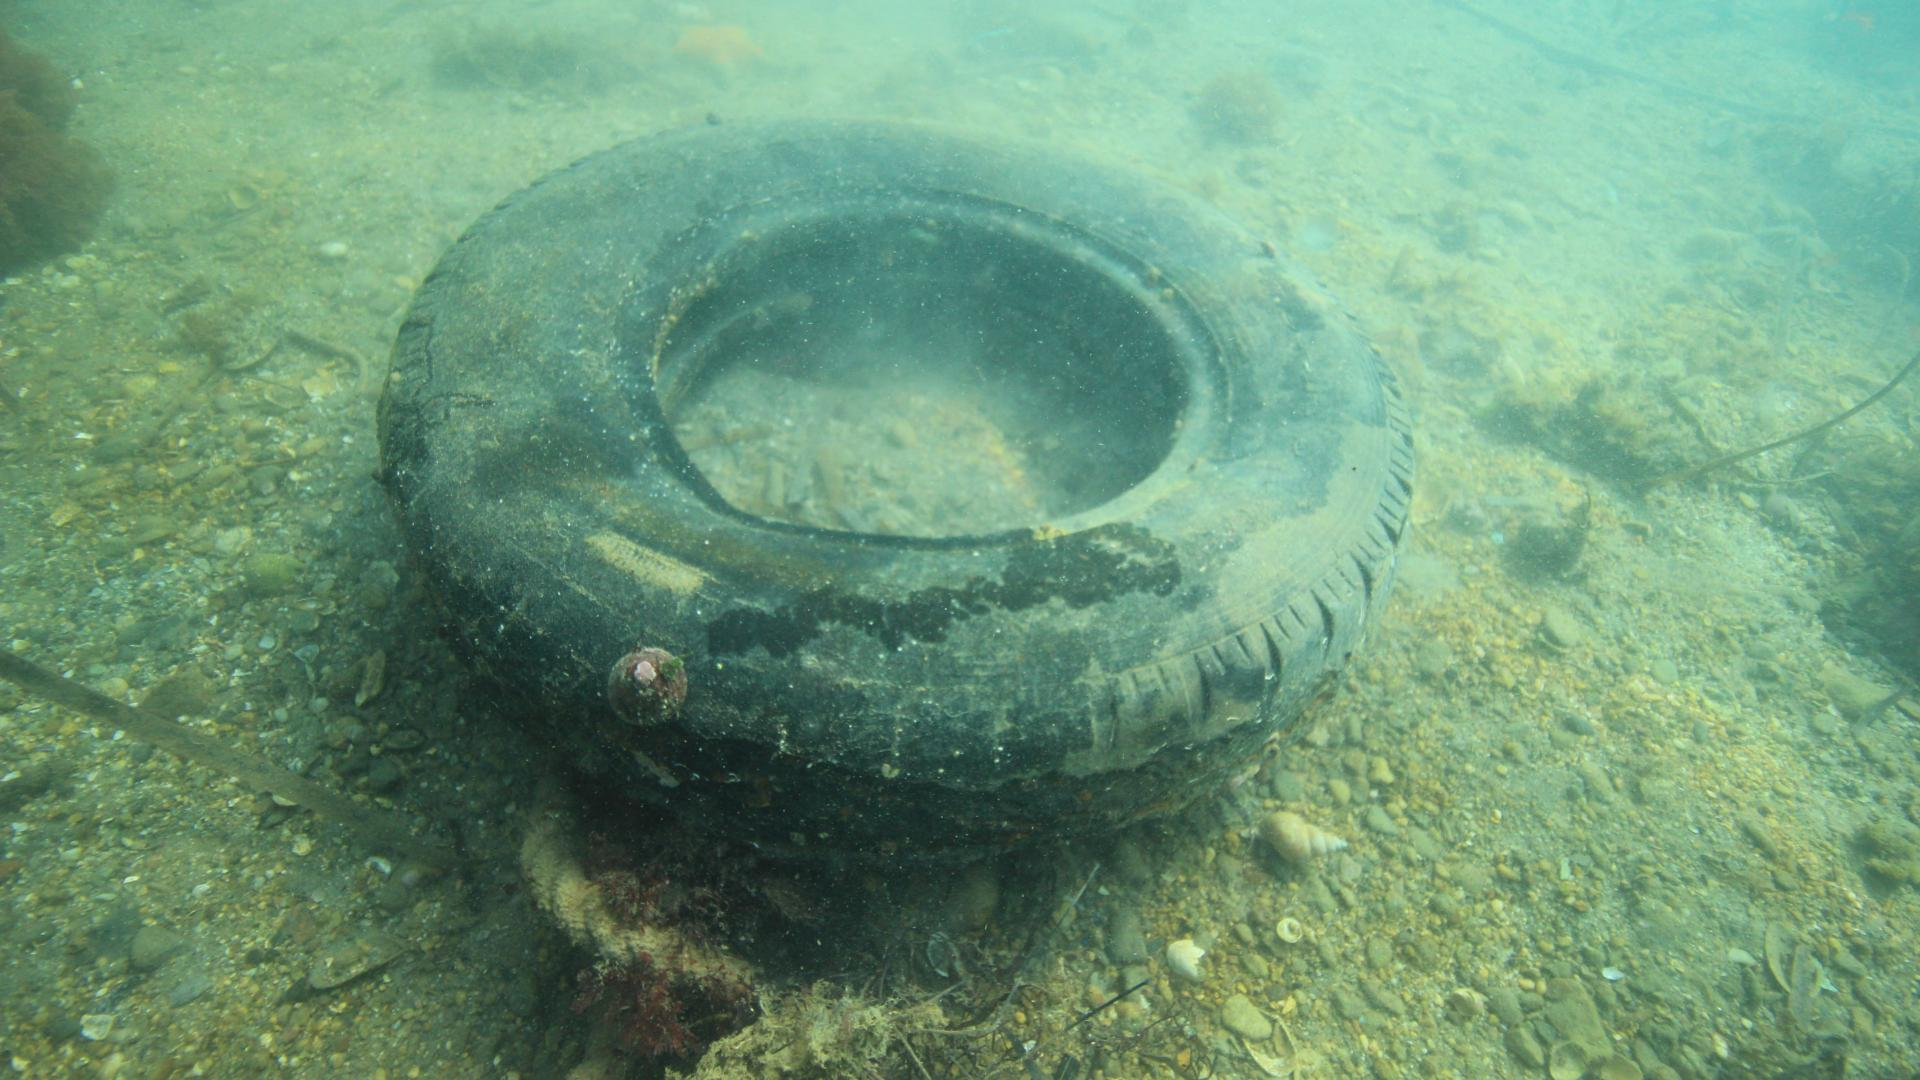tire: (372, 100, 1420, 876)
